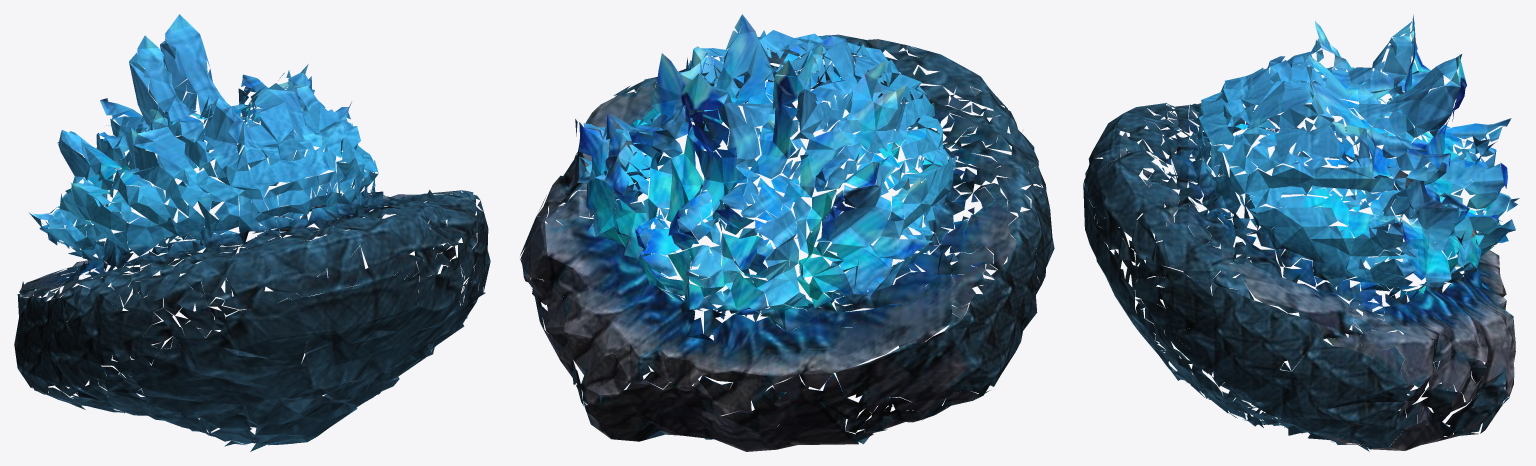
Rendered from crystal.glb.
3 renders of one model, left to right at view 1: azimuth 30°, elevation 25°; view 2: azimuth 150°, elevation 25°; view 3: azimuth 270°, elevation 25°, orthographic. The views are drawn at different scales.
Visible parts, largest first — view 1: world; view 2: world; view 3: world.
Boxes of the visible parts, <box> form: world: <box>14,14,490,451</box>; world: <box>520,14,1054,451</box>; world: <box>1083,14,1519,451</box>.
Size of the model in its own units: 0.9364 by 0.7618 by 0.8334.
1 material, 1 textured.
